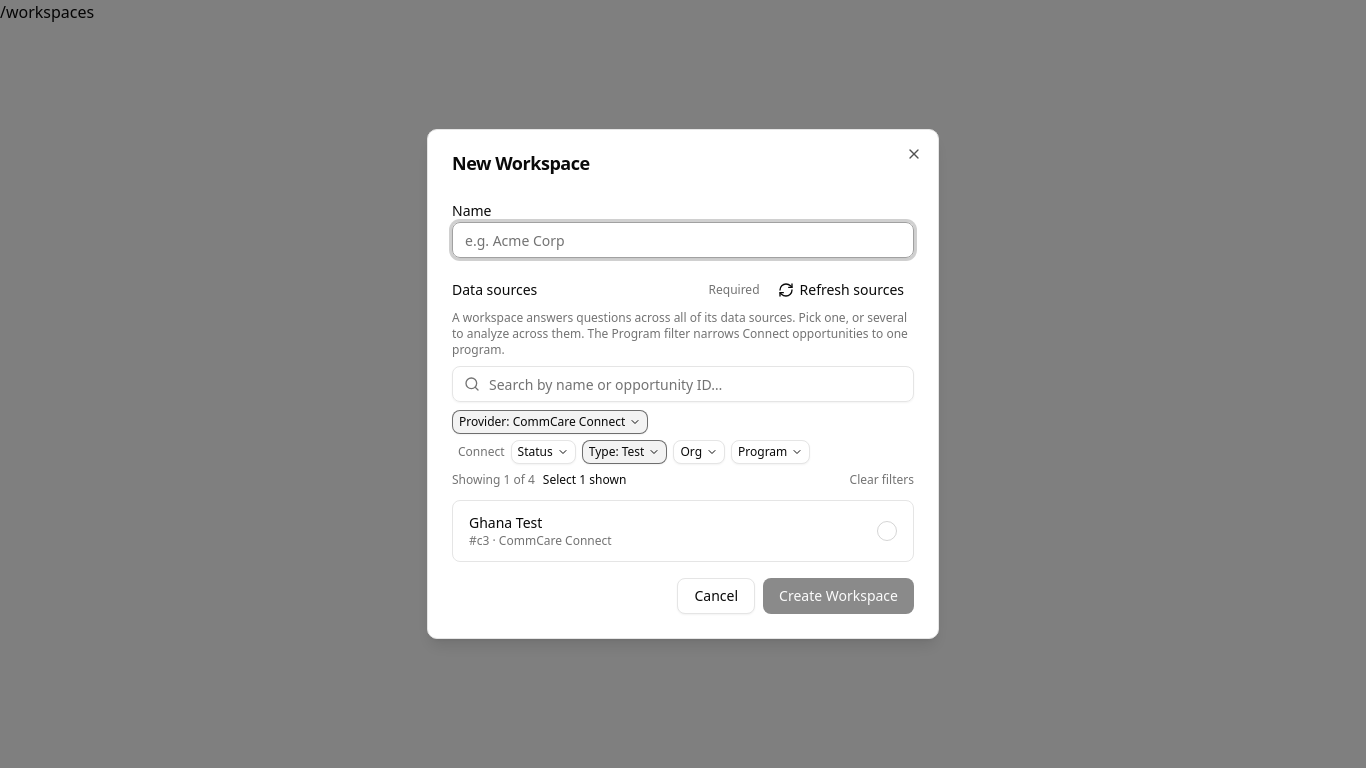
Test case: restores persisted facets and offers Clear filters when nothing matches
This screenshot has width=1366, height=768.
Expected: the element with test id "create-sources-list" is shown, [452, 500, 914, 562]
Type "Analysis" into the field labelled "Name" at (683, 240), box [452, 222, 914, 258]
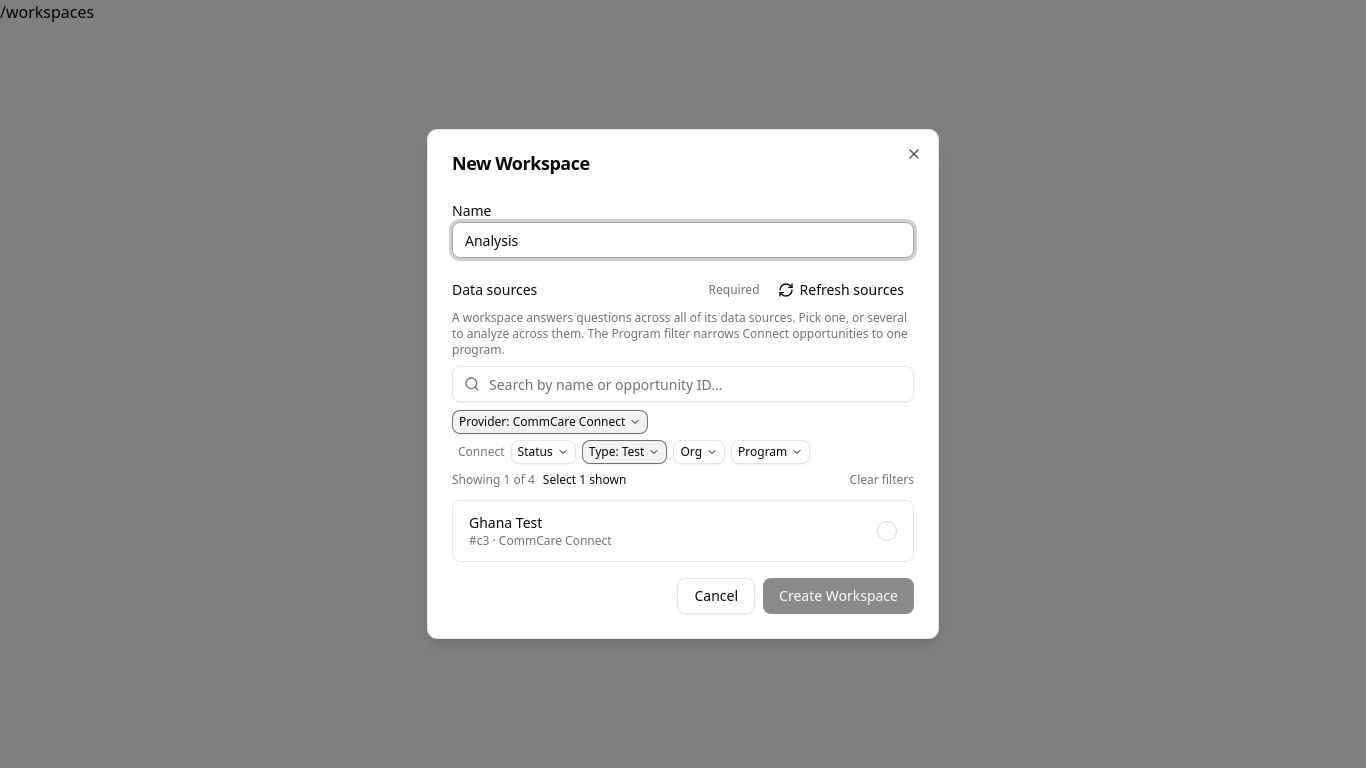
Type "kenya" into the field with test id "search-filter-input" at (683, 384), box [452, 366, 914, 402]
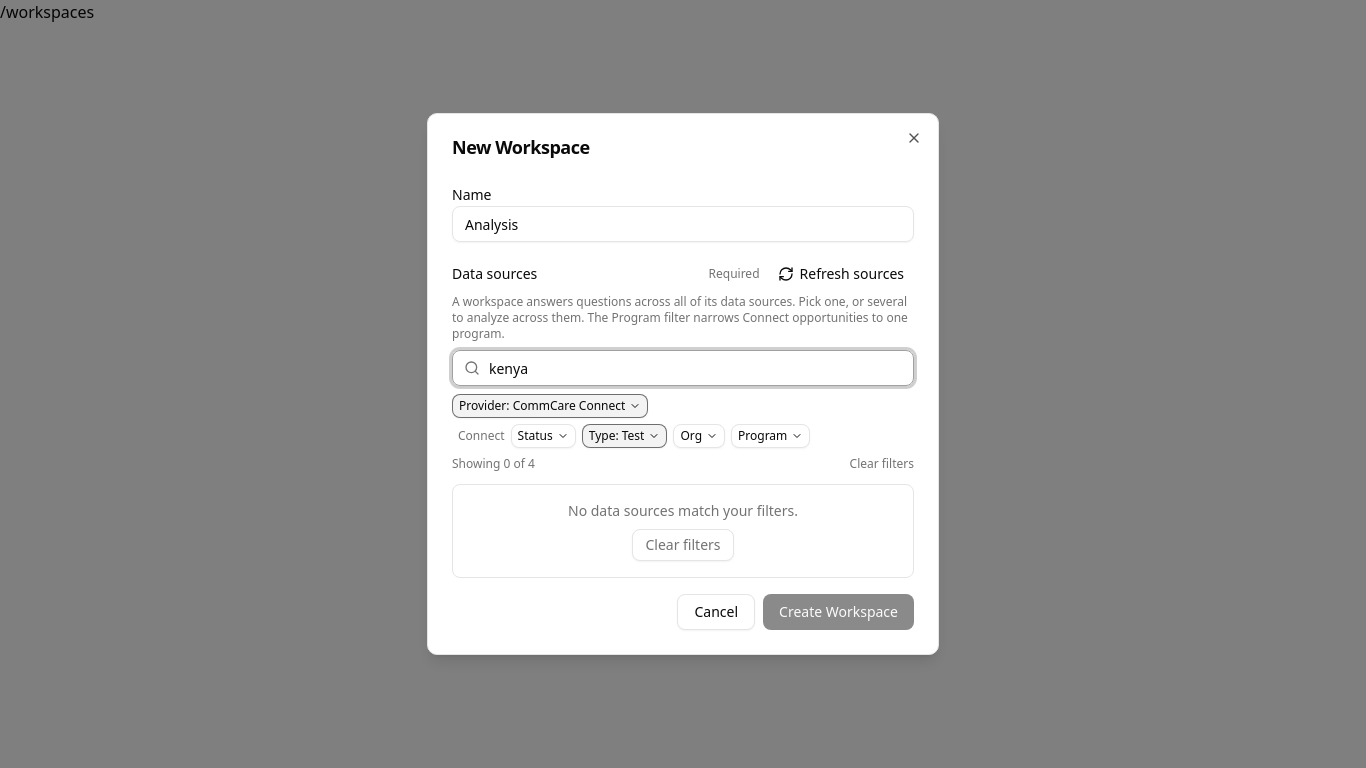
Now the element with test id "create-sources-list" shows "No data sources match", box [568, 501, 798, 520]
Click the button with test id "create-sources-filter-empty-clear" at (683, 545), box [632, 529, 734, 561]
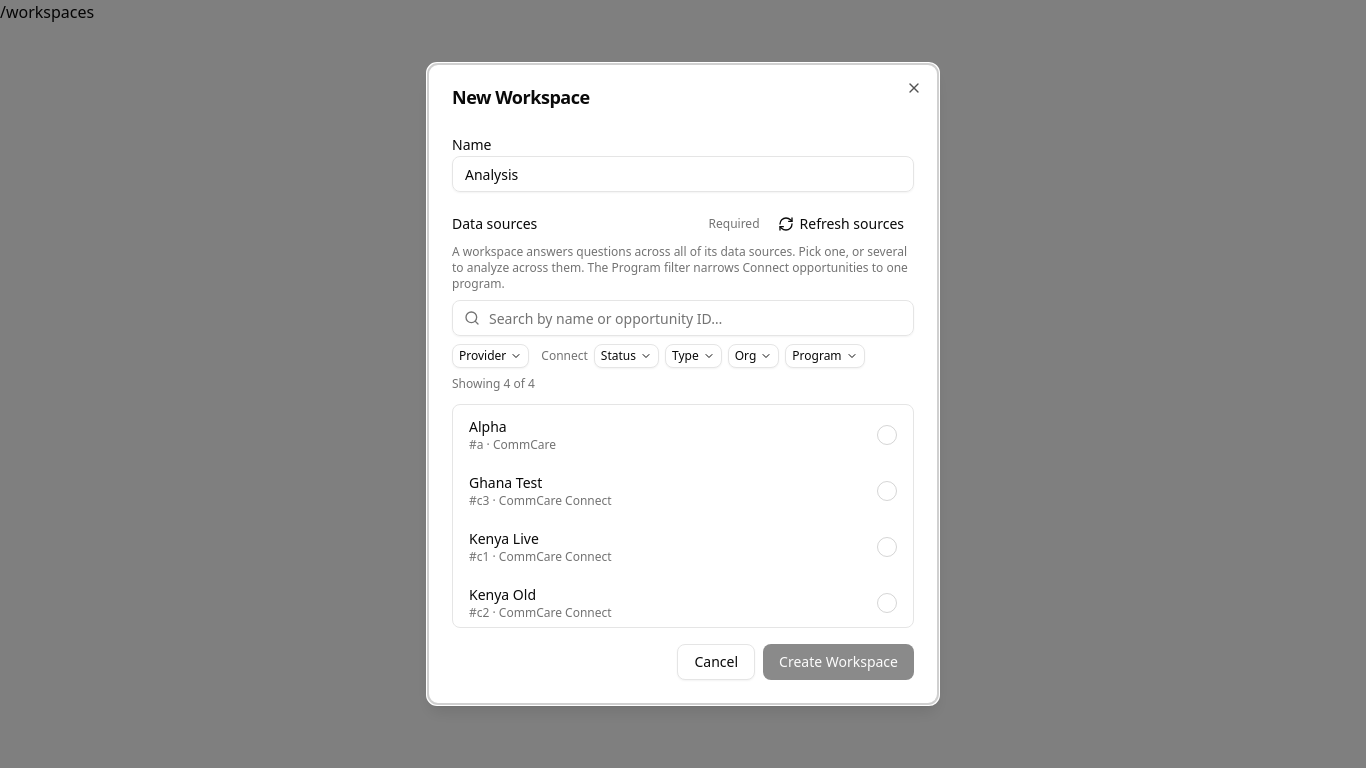
Now the field with test id "search-filter-input" is empty, box [452, 300, 914, 336]
